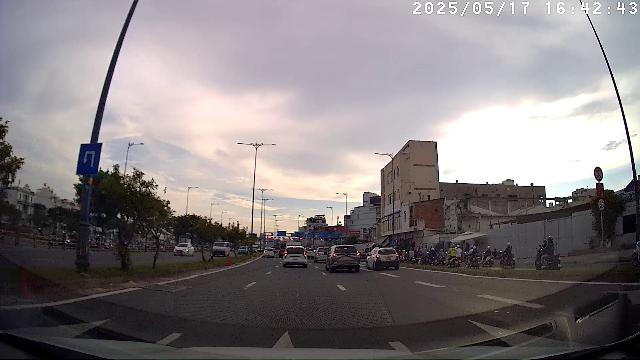127-toc-do-toi-da-50: (596, 197, 606, 210)
